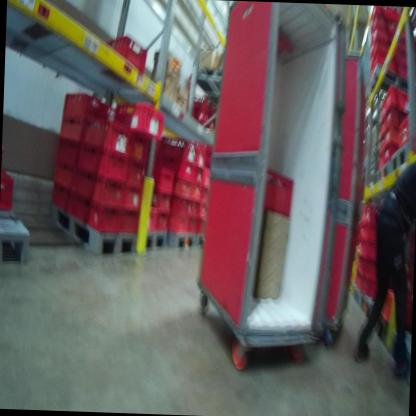pallet: (49, 201, 139, 261), (367, 62, 416, 98), (0, 215, 32, 270), (190, 65, 232, 102), (365, 305, 391, 354), (388, 334, 411, 384), (347, 284, 375, 320), (134, 226, 168, 253), (391, 140, 414, 177), (373, 154, 395, 188), (167, 229, 196, 254), (195, 230, 209, 251)
small_load_carrier: (61, 89, 164, 140), (100, 33, 156, 82), (75, 139, 129, 183), (72, 168, 124, 212), (79, 116, 129, 156), (255, 164, 294, 215), (153, 133, 197, 164), (58, 115, 103, 145), (123, 150, 151, 190), (379, 124, 403, 169), (154, 158, 194, 183), (54, 130, 84, 163), (130, 122, 153, 165), (53, 161, 80, 196), (117, 182, 150, 209), (148, 168, 174, 198), (395, 110, 416, 145), (189, 109, 217, 135), (167, 174, 193, 200), (1, 163, 15, 208), (368, 19, 395, 41), (382, 87, 402, 115), (152, 190, 173, 213), (370, 29, 394, 49), (371, 8, 395, 27), (169, 215, 189, 237), (171, 192, 190, 215), (386, 106, 400, 133), (369, 49, 393, 63), (190, 183, 204, 205), (195, 140, 205, 169), (187, 200, 200, 222), (195, 160, 204, 189)
